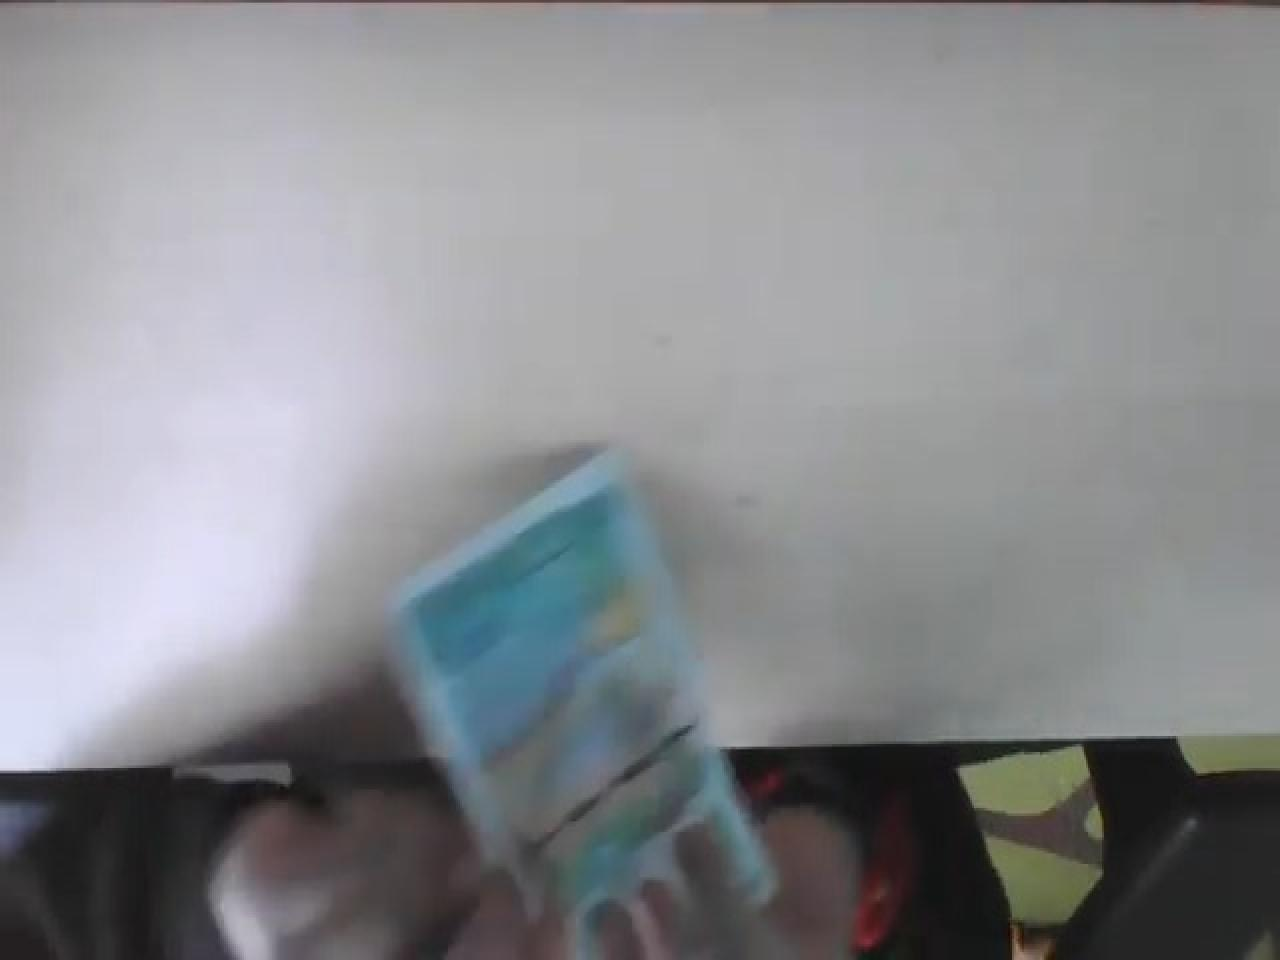100leva: (382, 446, 776, 960)
